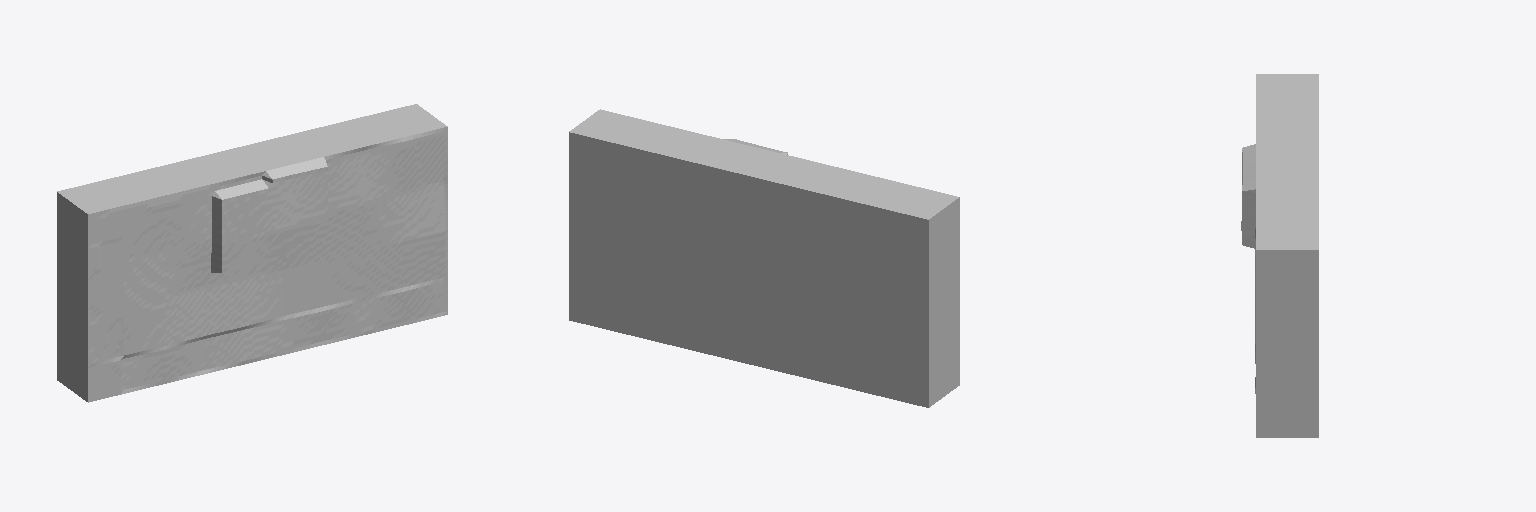
Rendered from rectangular_prism_bumps_6_7.obj.
3 renders of one model, left to right at view 1: azimuth 30°, elevation 25°; view 2: azimuth 150°, elevation 25°; view 3: azimuth 270°, elevation 25°, orthographic.
Bounding box in the file's own units: 10 × 5 × 1.86.